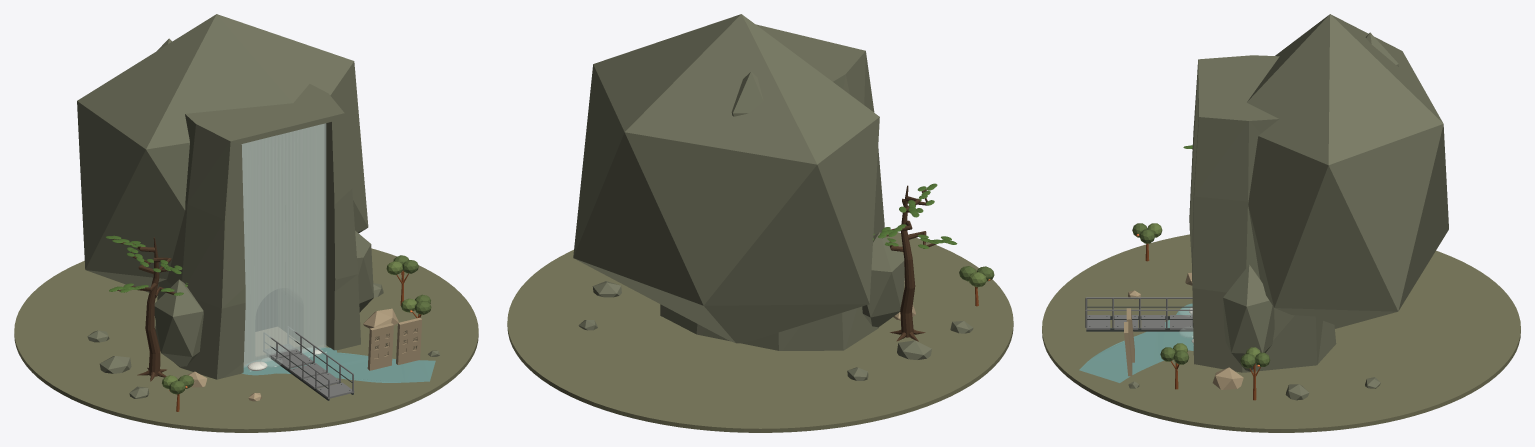
File: xy_huaguo.glb
The picture shows the model from 3 angles, left to right: view 1: azimuth 30°, elevation 25°; view 2: azimuth 150°, elevation 25°; view 3: azimuth 270°, elevation 25°; orthographic projection. The views are drawn at different scales.
Parts seen in each view (by area): view 1: xy_huaguo; view 2: xy_huaguo; view 3: xy_huaguo.
Part boxes in pixels (<box>): xy_huaguo: <box>14,14,478,432</box>; xy_huaguo: <box>507,14,1013,432</box>; xy_huaguo: <box>1042,14,1520,432</box>.
Size of the model in its own units: 26 by 18.85 by 26.
